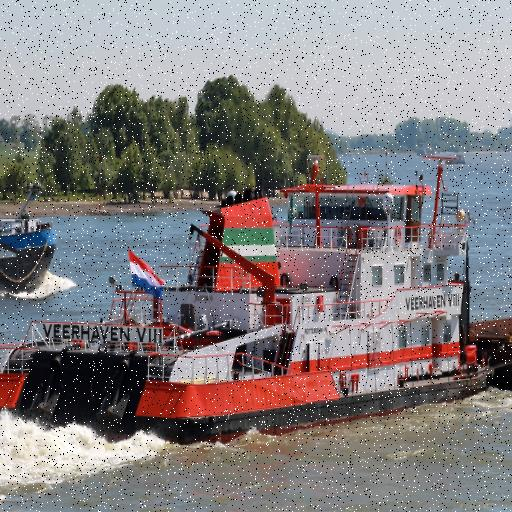tugboat: (1, 180, 498, 460)
